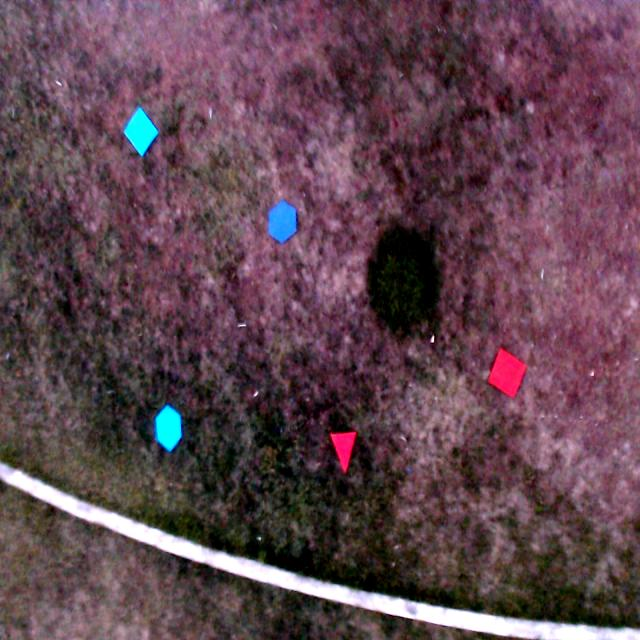blue_hexagon: (155, 404, 183, 454), (267, 200, 296, 246)
blue_square: (122, 106, 159, 157)
red_square: (486, 348, 526, 399)
red_triangle: (329, 432, 358, 476)
